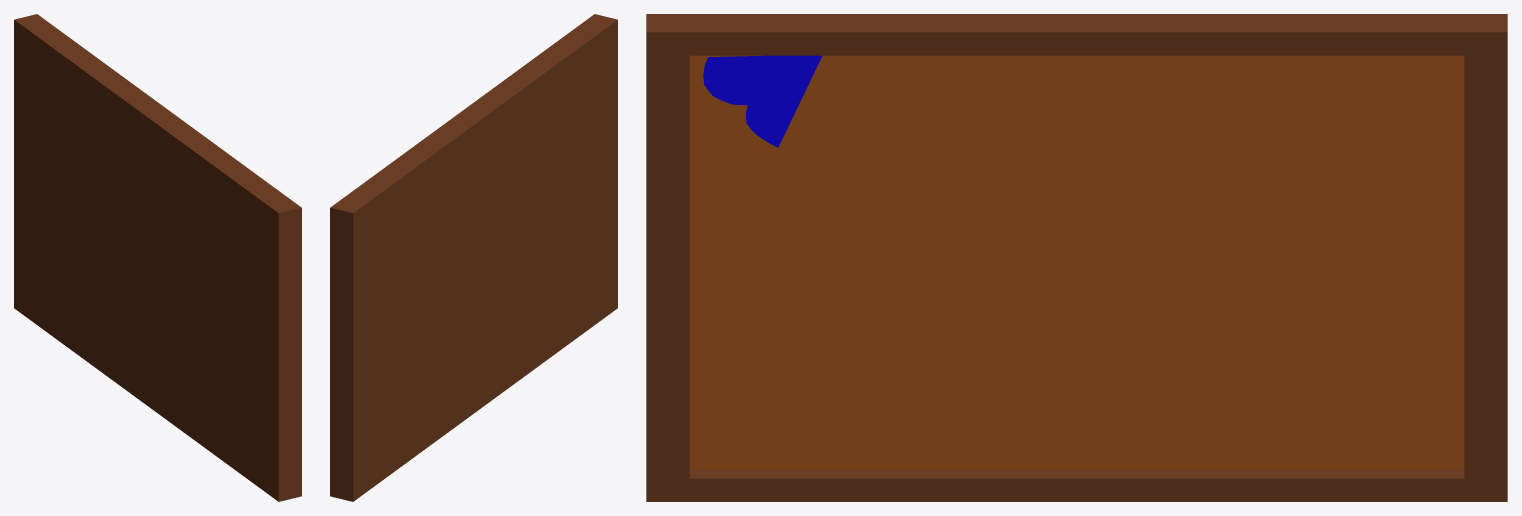
The model's file is Pizarra.fbx.
The picture shows the model from 3 angles, left to right: view 1: azimuth 30°, elevation 25°; view 2: azimuth 150°, elevation 25°; view 3: azimuth 270°, elevation 25°; orthographic projection. The views are drawn at different scales.
Parts seen in each view (by area): view 1: Cube; view 2: Cube; view 3: Cube.
Boxes of the visible parts, bbox=[...] form: Cube: bbox=[14, 14, 301, 501]; Cube: bbox=[330, 14, 617, 501]; Cube: bbox=[646, 14, 1507, 501].
Size of the model in its own units: 82.11 by 980 by 1629.
